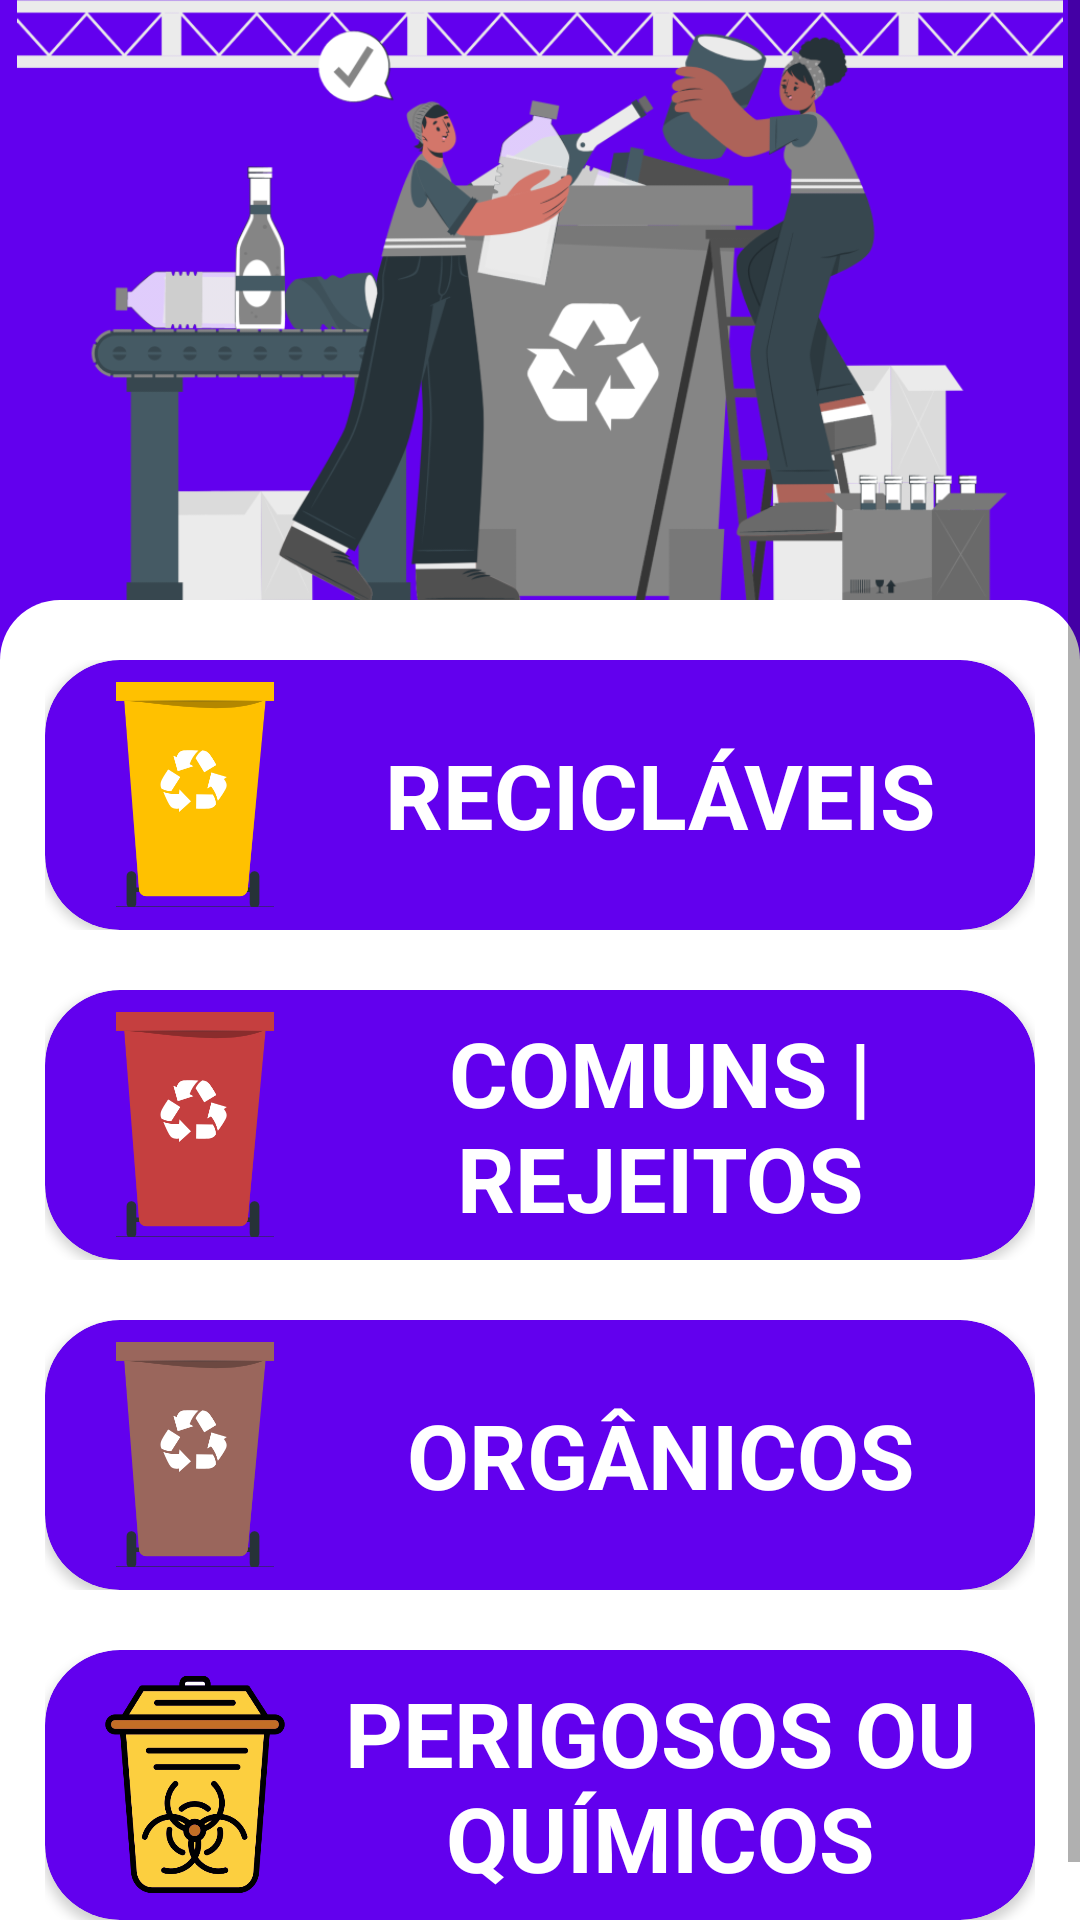

Where to tap for icons on this 1080×1920 app screen, as point (x, y):
lixeira amarela: point (195, 794)
lixeira marrom: point (195, 1454)
lixeira vermelha: point (195, 1124)
lixo toxico: point (195, 1784)
